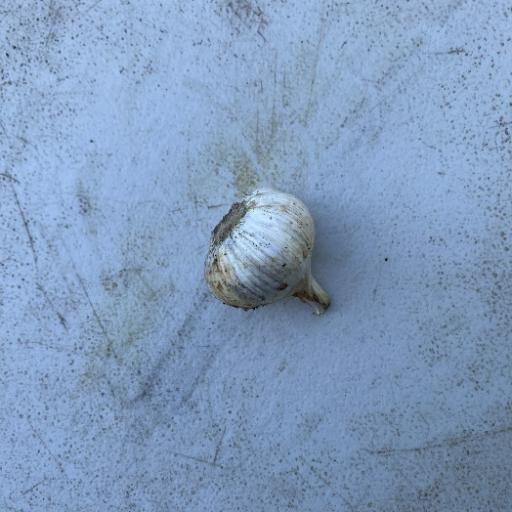Waste: (202, 186, 331, 316)
